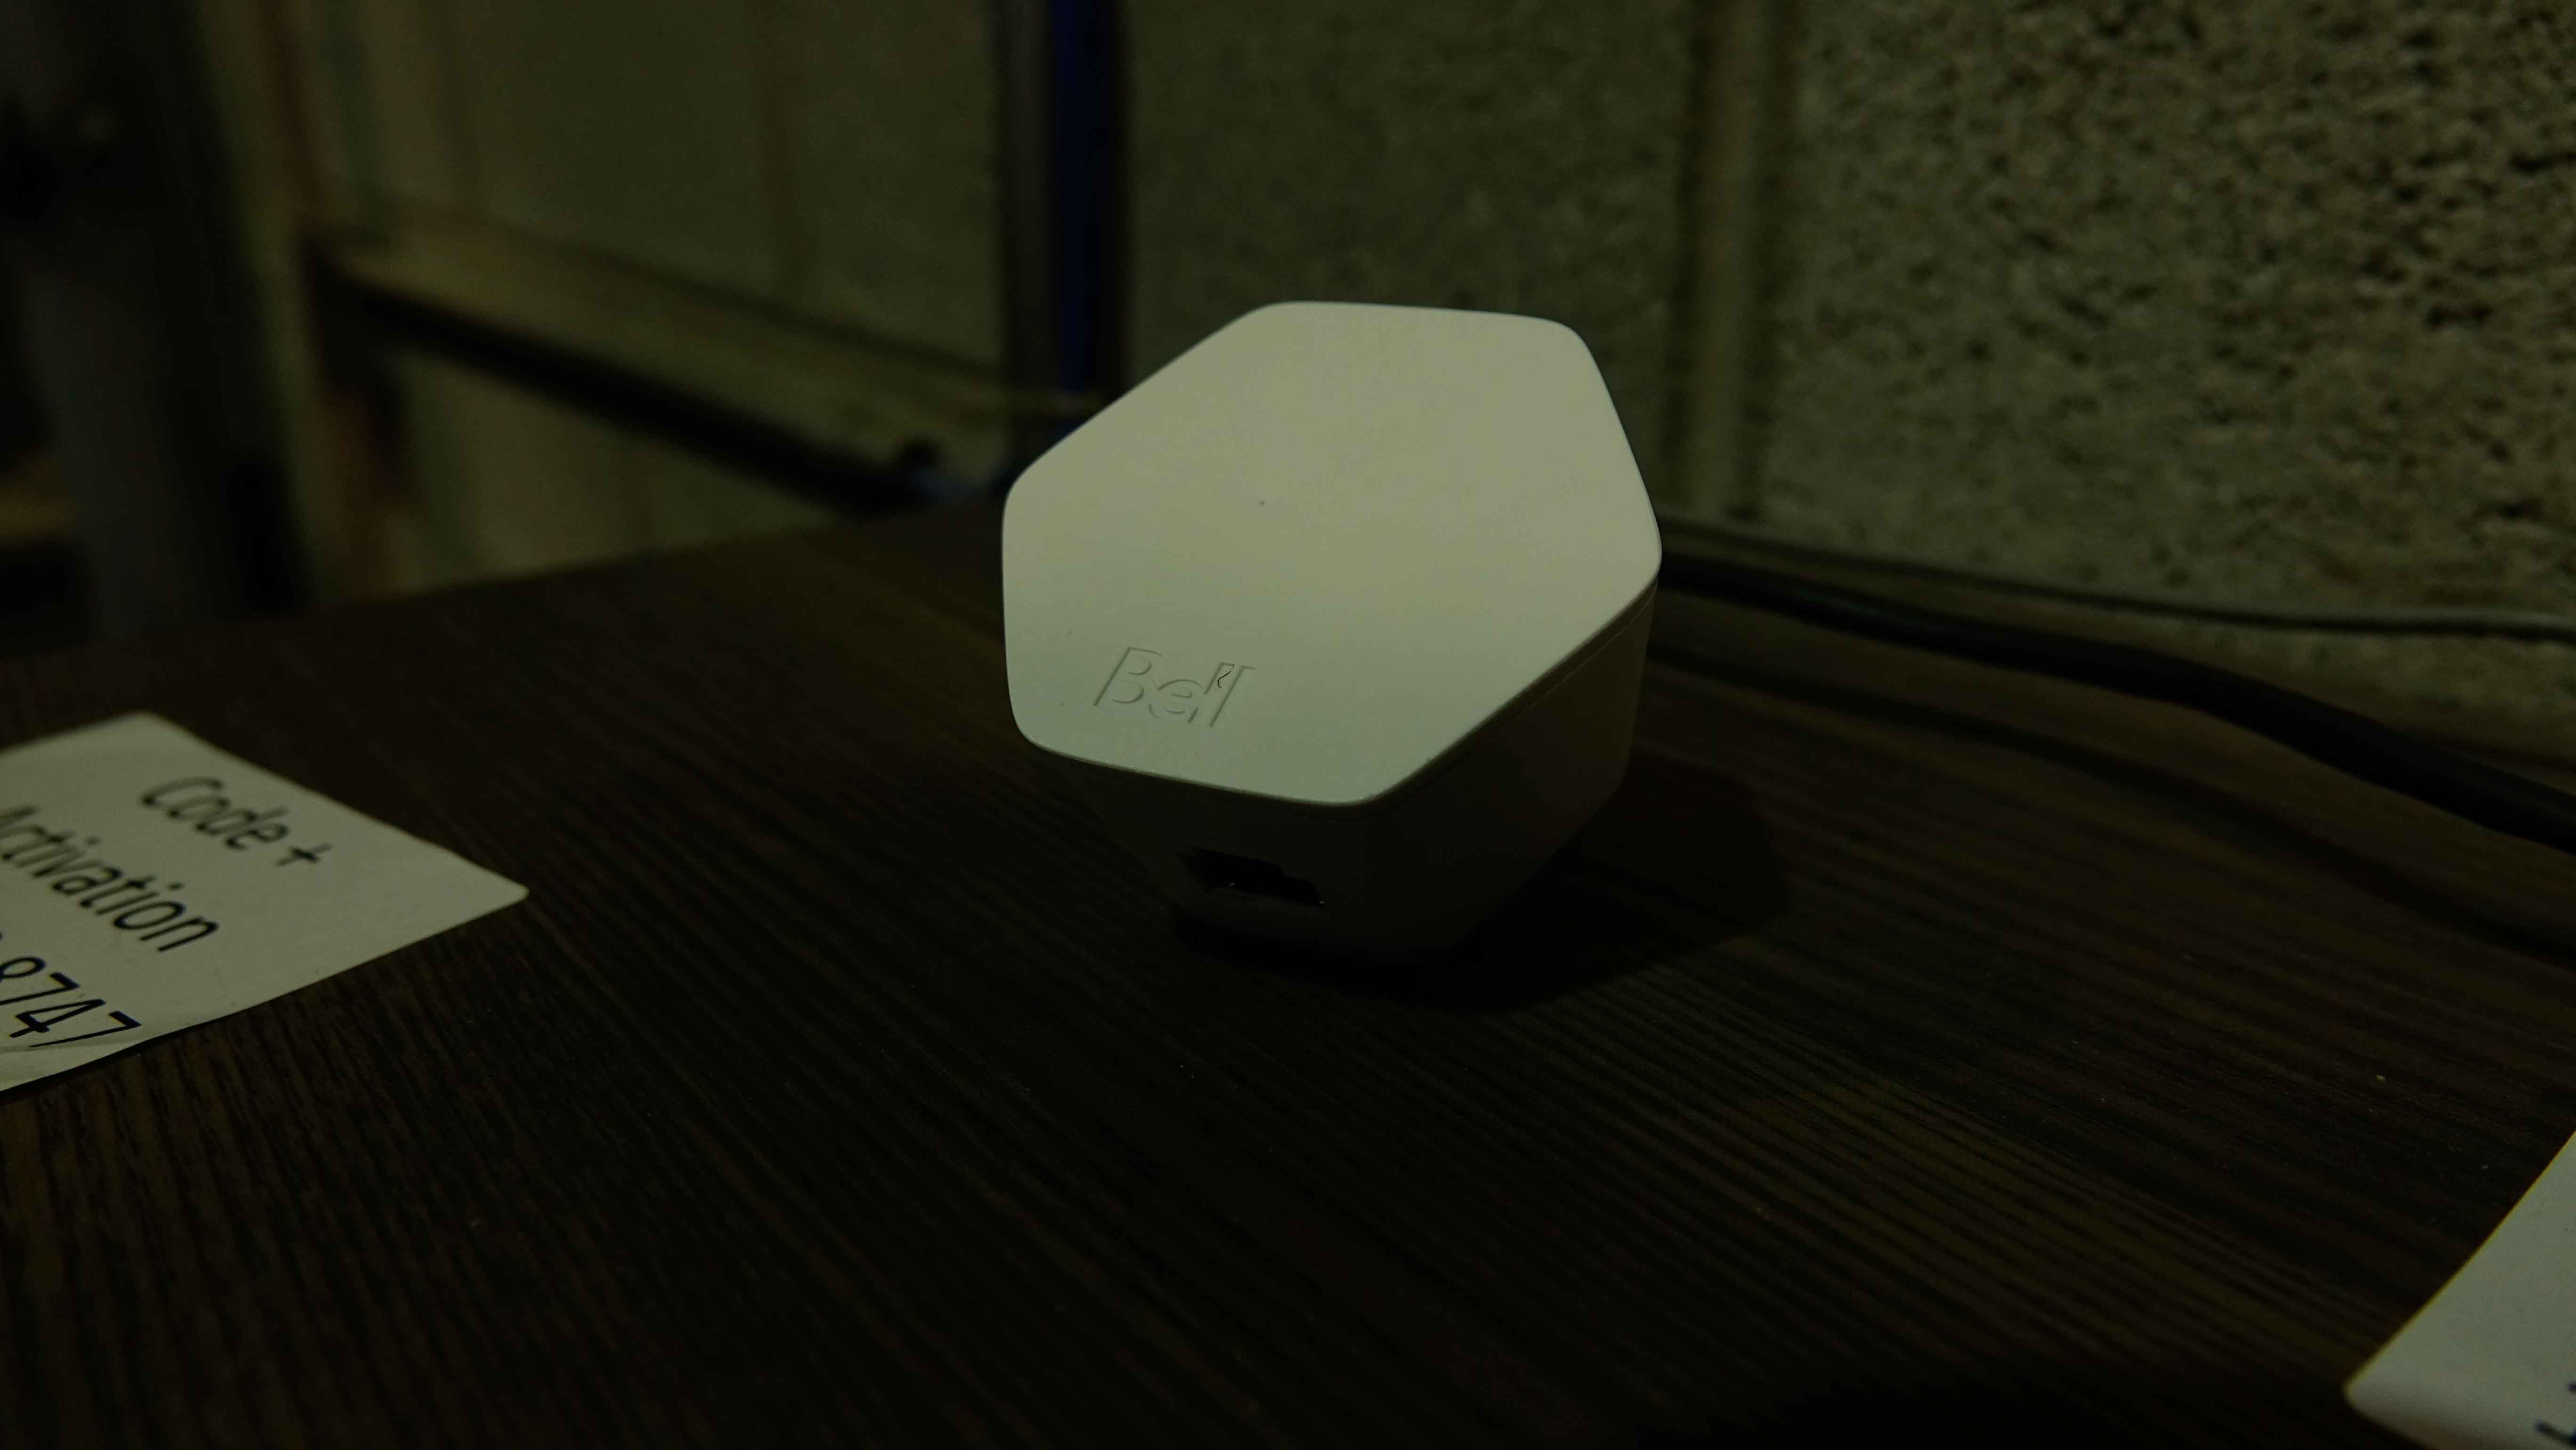pod: (982, 286, 1667, 976)
